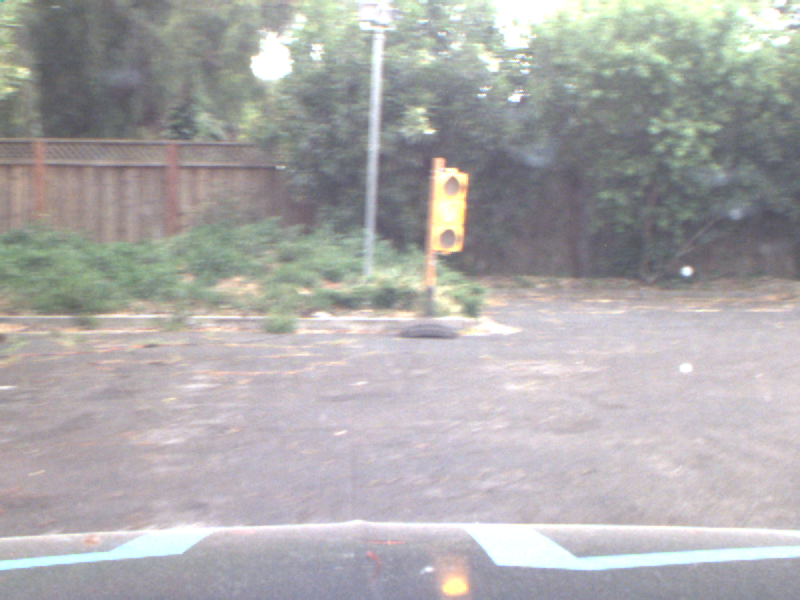Yellow: (436, 170, 465, 248)
